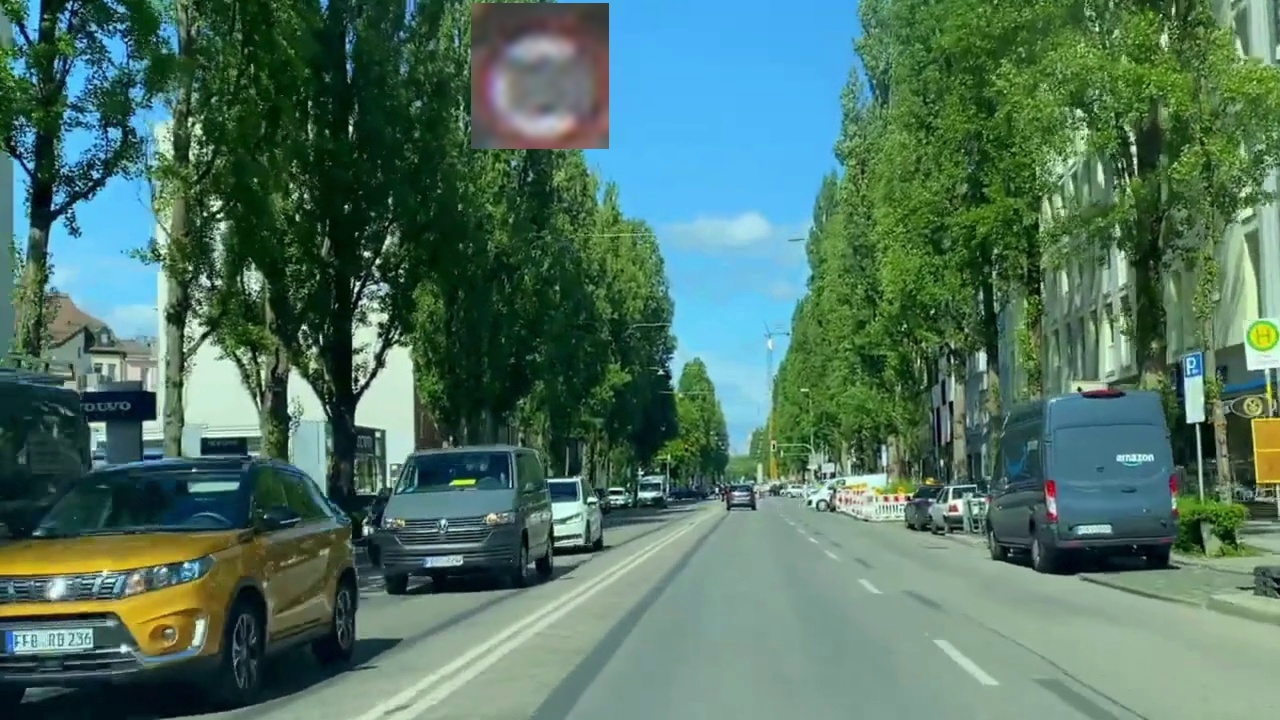Speed 100: (471, 3, 609, 149)
